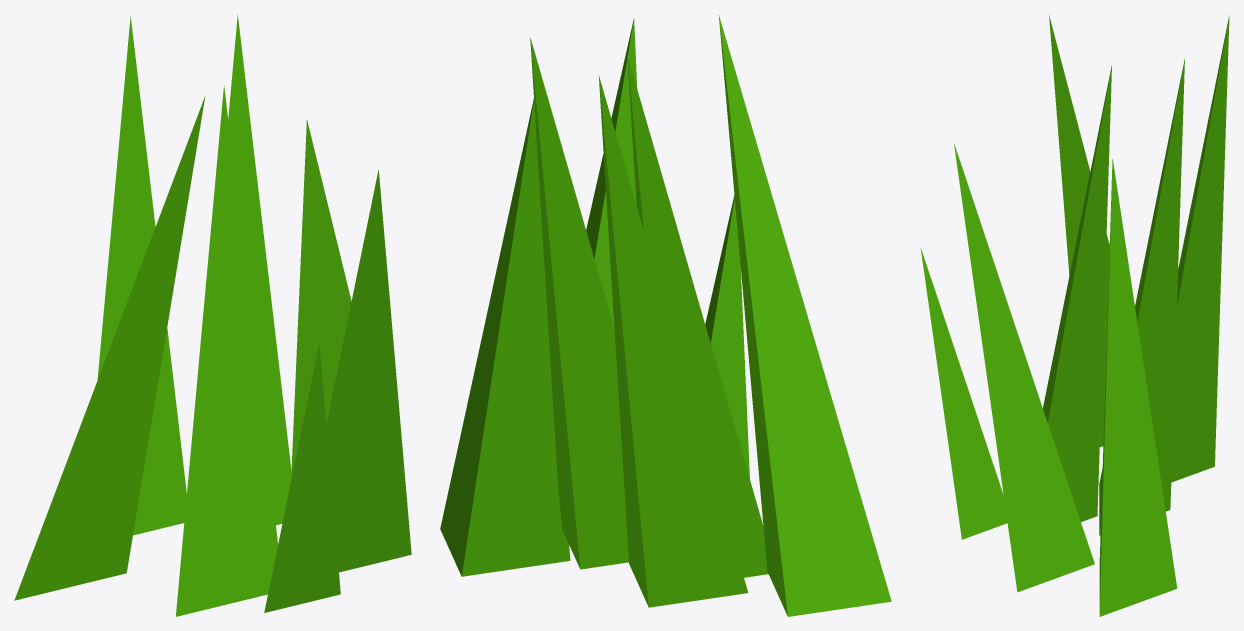
The model's file is Grass.fbx.
3 views of the same model, side by side, from view 1: azimuth 30°, elevation 25°; view 2: azimuth 150°, elevation 25°; view 3: azimuth 270°, elevation 25° (orthographic). The views are drawn at different scales.
Visible parts, largest first — view 1: Cone.006; view 2: Cone.006; view 3: Cone.006.
Boxes of the visible parts, bbox=[...] form: Cone.006: bbox=[14, 14, 411, 616]; Cone.006: bbox=[440, 15, 891, 616]; Cone.006: bbox=[920, 14, 1229, 616].
Bounding box in the file's own units: 117 × 144 × 79.81.
